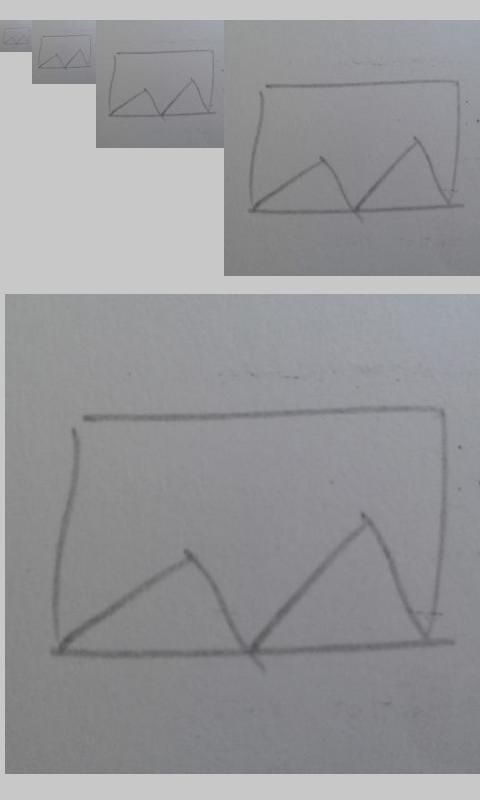image_view: (47, 403, 453, 664), (244, 76, 464, 220), (107, 48, 217, 119), (37, 34, 93, 71), (2, 26, 31, 46)
